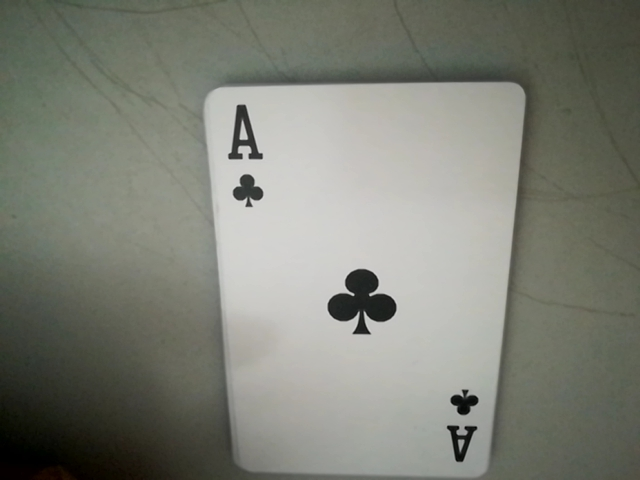mh a: (211, 104, 272, 217), (442, 380, 487, 469)
